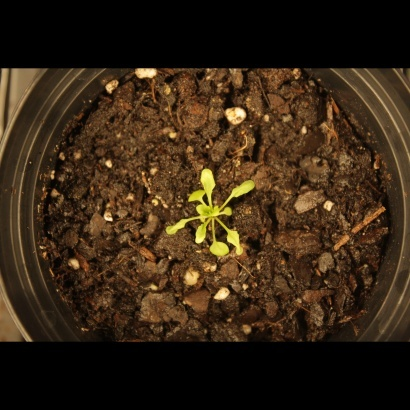leaf: (229, 176, 258, 203), (197, 166, 221, 198), (161, 214, 192, 237), (191, 221, 214, 251), (226, 228, 250, 255), (208, 240, 231, 263), (183, 181, 206, 204), (193, 202, 216, 225), (220, 201, 243, 224)
